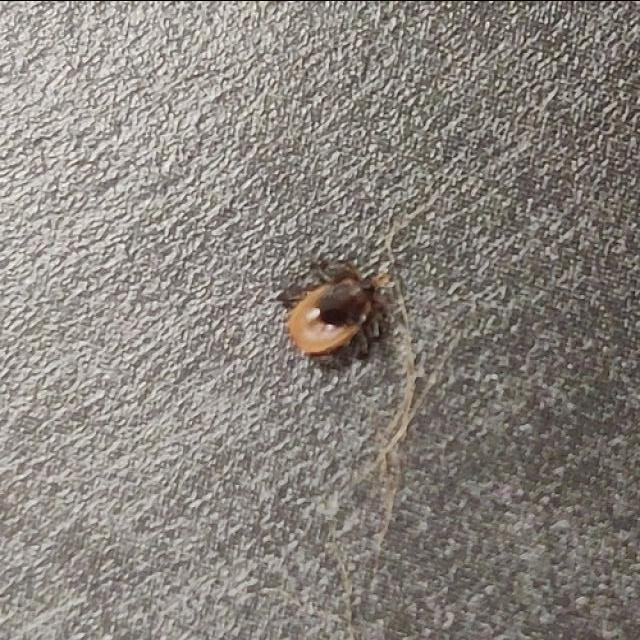Ixodes Ricinus-F: (282, 263, 387, 367)
